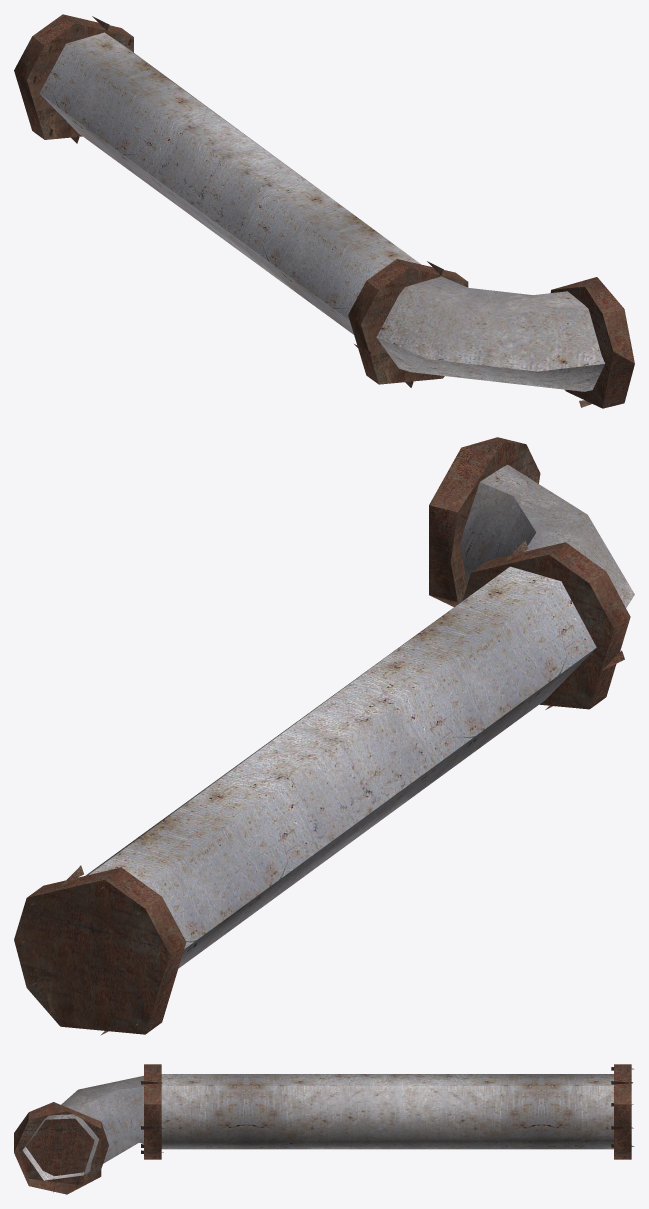
Rendered from steigrohr_2_LOD1.obj.
3 renders of one model, top to bottom at view 1: azimuth 30°, elevation 25°; view 2: azimuth 150°, elevation 25°; view 3: azimuth 270°, elevation 25°, orthographic. The views are drawn at different scales.
Visible parts, largest first — view 1: MDL_Cylin1; view 2: MDL_Cylin1; view 3: MDL_Cylin1.
Part boxes in pixels (bbox=[...]): MDL_Cylin1: bbox=[14, 14, 634, 408]; MDL_Cylin1: bbox=[14, 437, 634, 1035]; MDL_Cylin1: bbox=[14, 1064, 634, 1194].
Size of the model in its own units: 2.91 by 1.81 by 11.98.
Materials: 2 (2 with a texture image).
